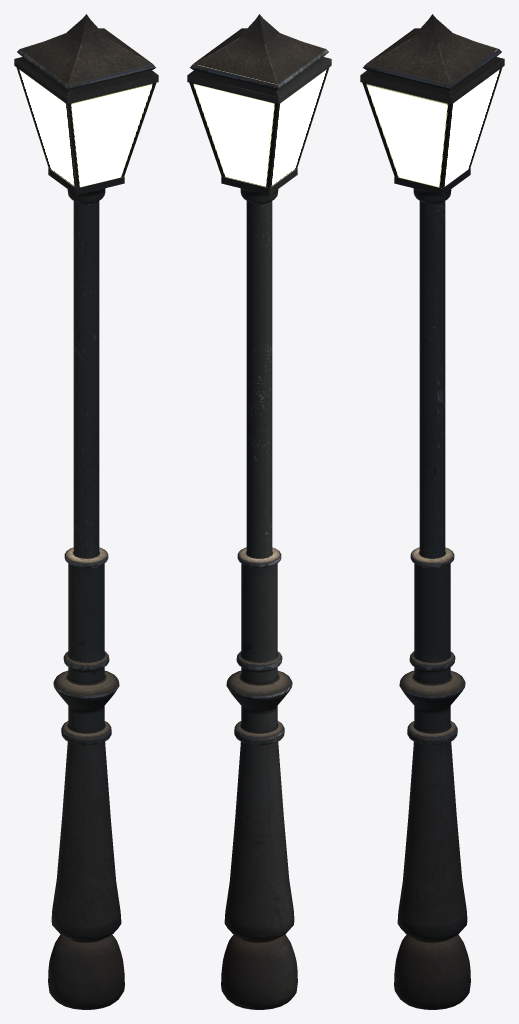
Rendered from simple_street_lamp.glb.
The picture shows the model from 3 angles, left to right: view 1: azimuth 30°, elevation 25°; view 2: azimuth 150°, elevation 25°; view 3: azimuth 330°, elevation 25°; orthographic projection.
Visible parts, largest first — view 1: Object_2; view 2: Object_2; view 3: Object_2.
Part boxes in pixels (x1,y1,x2,y2): Object_2: [14, 14, 158, 1009]; Object_2: [187, 14, 331, 1009]; Object_2: [360, 14, 504, 1009].
Size of the model in its own units: 1.09 by 11.22 by 1.09.
Materials: 1 (1 with a texture image).
